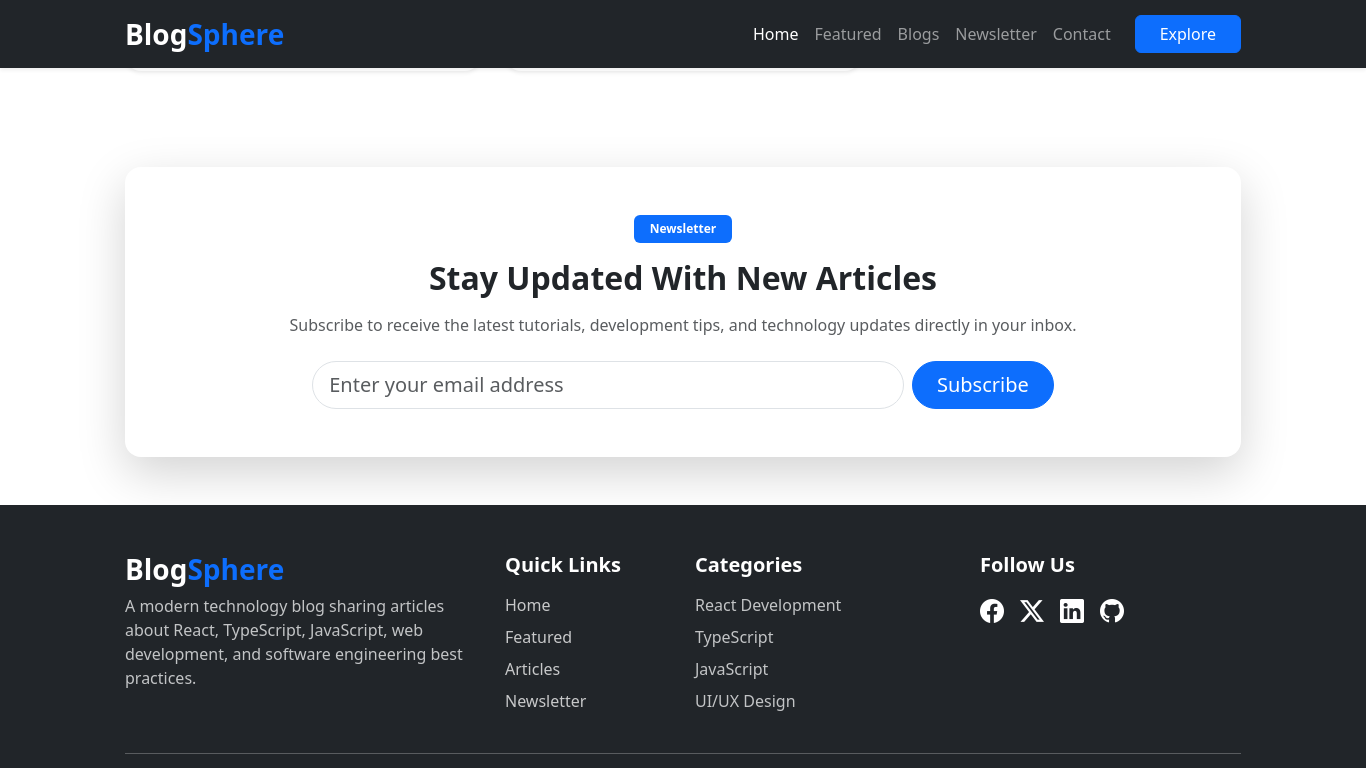
BlogSphere App › shows newsletter validation message
(page scrolled)
Click the button "Subscribe" at (983, 385), box left=912, top=361, right=1054, bottom=409
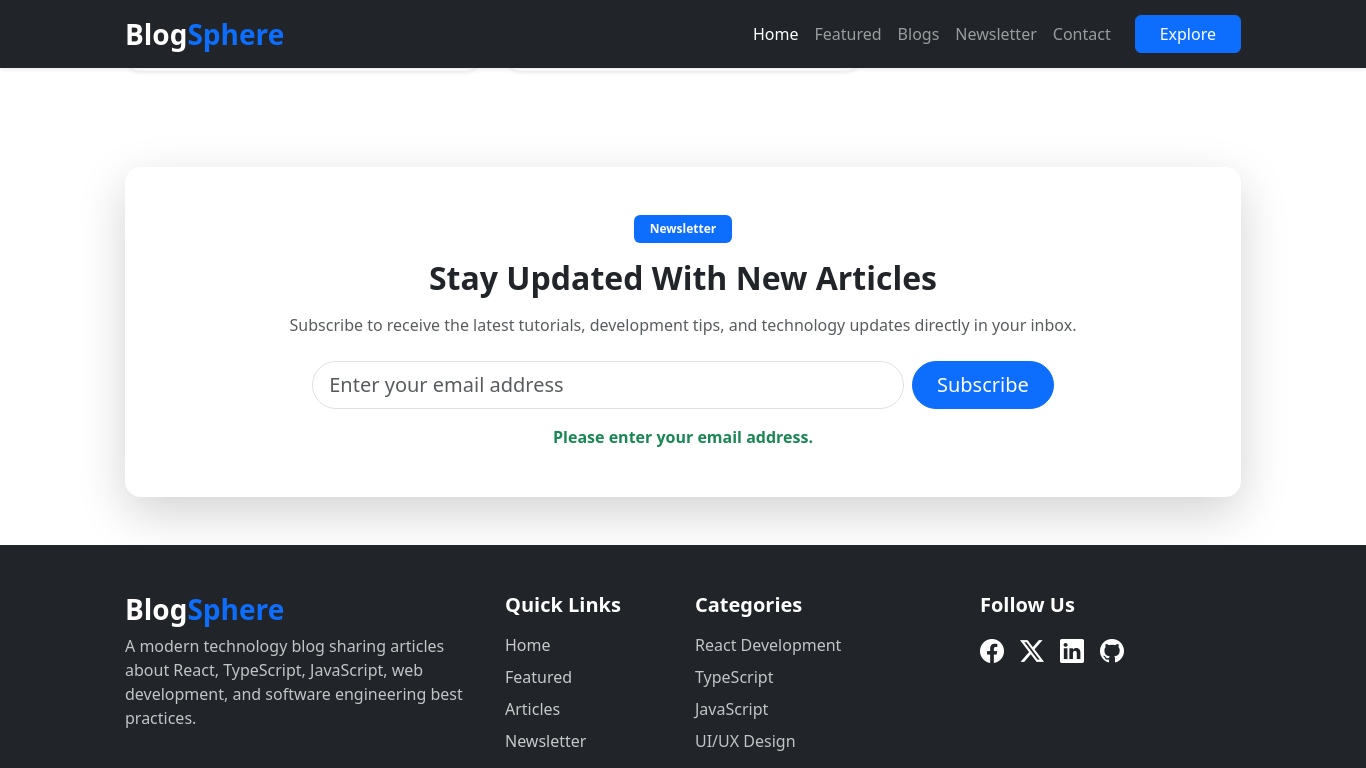
expect the text "Please enter your email address." is shown: met, box left=553, top=426, right=813, bottom=448
